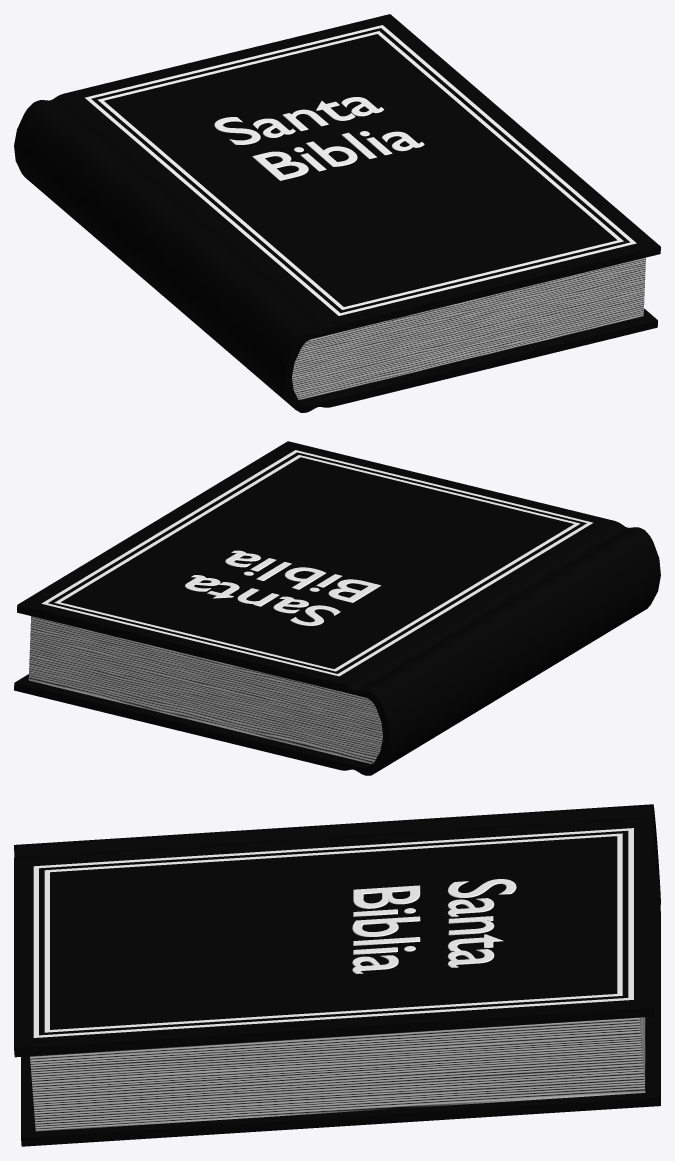
Rendered from biblia.glb.
3 renders of one model, top to bottom at view 1: azimuth 30°, elevation 25°; view 2: azimuth 150°, elevation 25°; view 3: azimuth 270°, elevation 25°, orthographic. The views are drawn at different scales.
Visible parts, largest first — view 1: Cube.001_4, Cube_2, Text_3; view 2: Cube.001_4, Cube_2, Text_3; view 3: Cube.001_4, Cube_2, Text_3.
Part boxes in pixels (box(x1,y1,x2,y2)): Cube.001_4: box(14, 14, 660, 412); Cube_2: box(292, 257, 645, 399); Text_3: box(214, 97, 424, 180); Cube.001_4: box(14, 441, 660, 775); Cube_2: box(28, 616, 382, 763); Text_3: box(185, 550, 381, 625); Cube.001_4: box(14, 804, 660, 1146); Cube_2: box(30, 1017, 645, 1131); Text_3: box(352, 879, 516, 973).
Bounding box in the file's own units: 2.59 × 0.7783 × 3.28.
4 materials, 1 textured.
